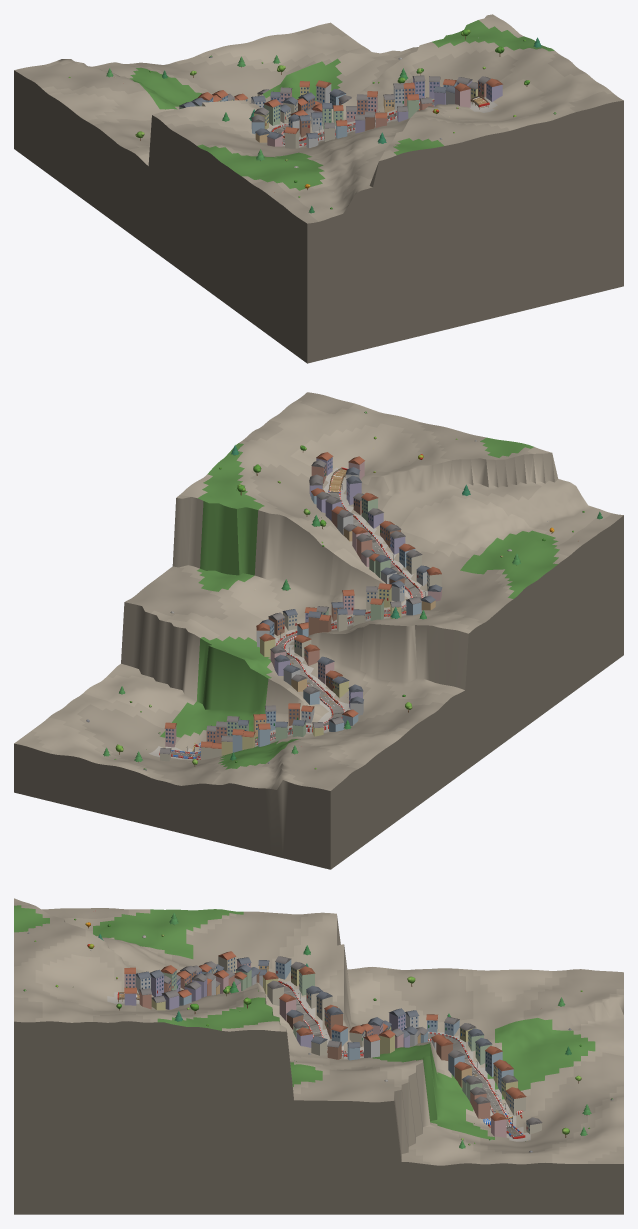
The picture shows the model from 3 angles, top to bottom: view 1: azimuth 30°, elevation 25°; view 2: azimuth 150°, elevation 25°; view 3: azimuth 270°, elevation 25°; orthographic projection. The views are drawn at different scales.
Parts seen in each view (by area): view 1: grass, buildings, pines; view 2: grass, buildings, road, hay, pines; view 3: grass, buildings, road, hay, pines.
Boxes of the visible parts, x1,y1,x2,y2 form: grass: (14, 14, 623, 363); buildings: (179, 75, 502, 148); pines: (106, 37, 541, 213); grass: (14, 392, 623, 869); buildings: (159, 452, 442, 761); road: (171, 469, 421, 756); hay: (159, 467, 423, 758); pines: (103, 445, 602, 761); grass: (14, 898, 623, 1214); buildings: (118, 951, 542, 1137); road: (118, 984, 522, 1136); hay: (117, 980, 525, 1138); pines: (98, 912, 591, 1148).
Size of the model in its own units: 265 by 154 by 425.
